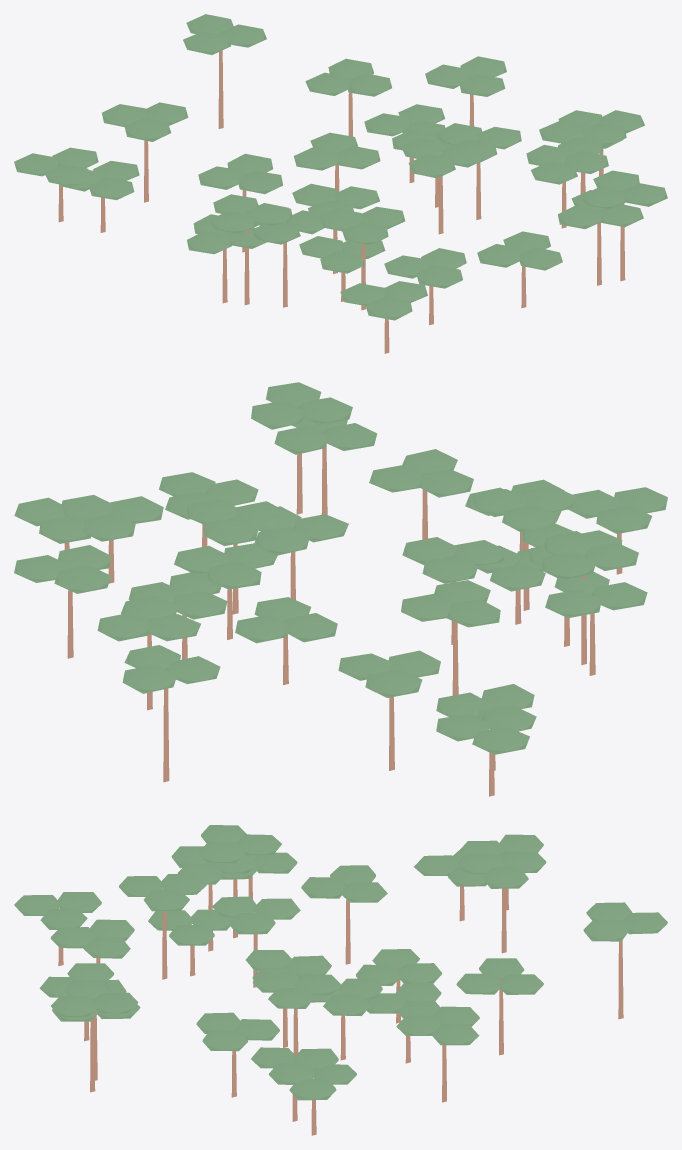
File: Blender_Sorrel_1.glb
The picture shows the model from 3 angles, top to bottom: view 1: azimuth 30°, elevation 25°; view 2: azimuth 150°, elevation 25°; view 3: azimuth 270°, elevation 25°; orthographic projection. The views are drawn at different scales.
Parts seen in each view (by area): view 1: Blender_Sorrel_1; view 2: Blender_Sorrel_1; view 3: Blender_Sorrel_1.
Part boxes in pixels (bbox=[...]): Blender_Sorrel_1: bbox=[14, 14, 667, 353]; Blender_Sorrel_1: bbox=[14, 382, 667, 796]; Blender_Sorrel_1: bbox=[14, 825, 667, 1135].
Bounding box in the file's own units: 1.1 × 0.1971 × 1.16.
